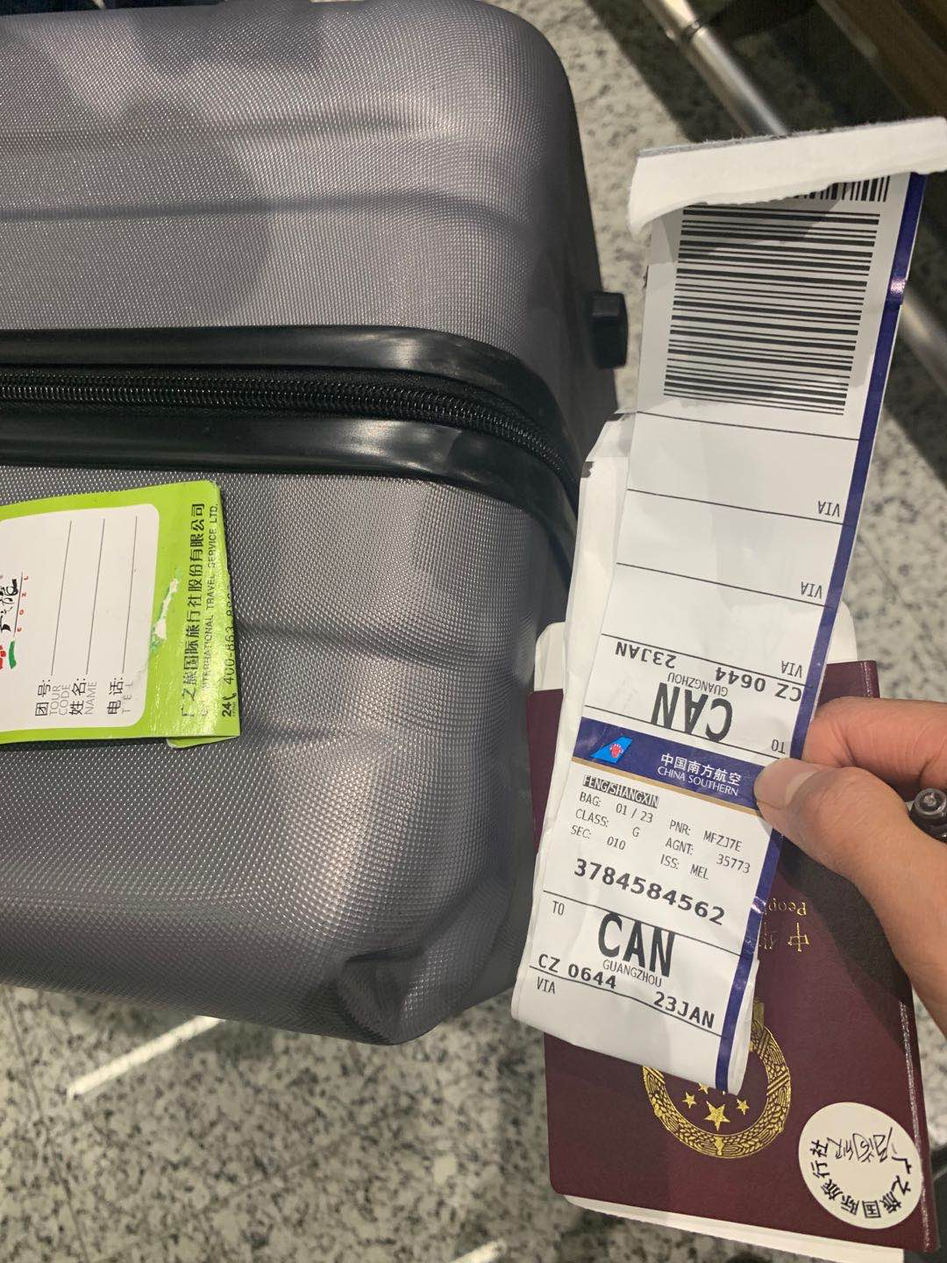rupture: (332, 874, 508, 1045)
